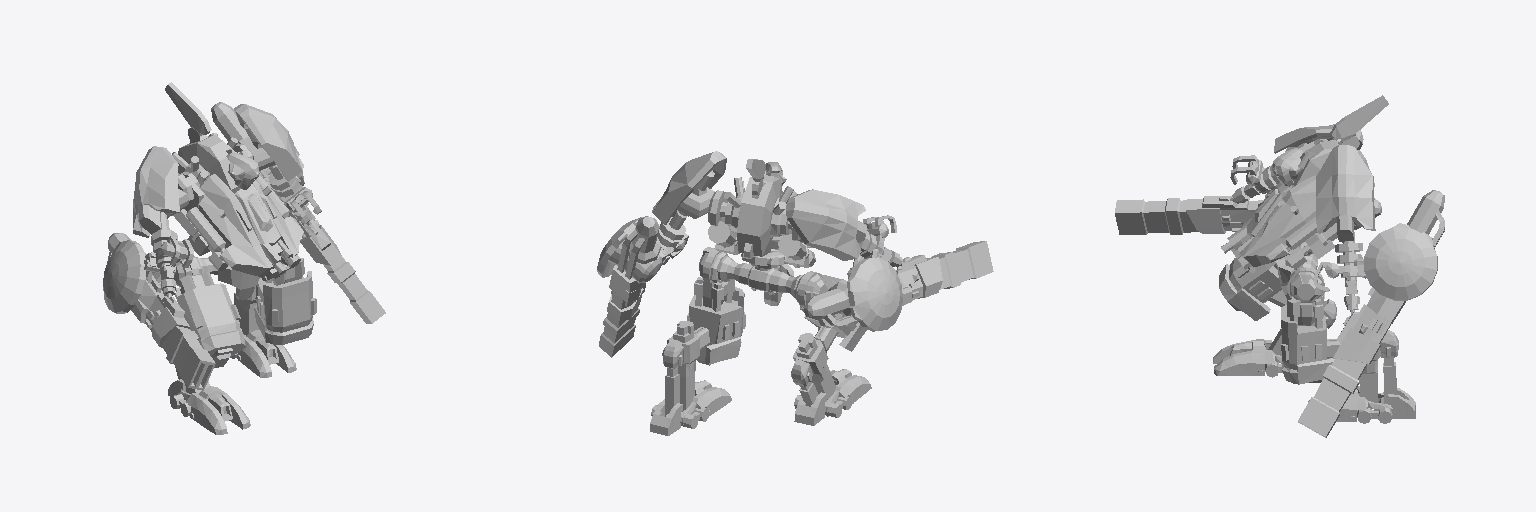
Rendered from robo.obj.
The picture shows the model from 3 angles: view 1: azimuth 30°, elevation 25°; view 2: azimuth 150°, elevation 25°; view 3: azimuth 270°, elevation 25°; orthographic projection.
Visible parts, largest first — view 1: d2f0cff60afc40f5afe79156ec7db657; view 2: d2f0cff60afc40f5afe79156ec7db657; view 3: d2f0cff60afc40f5afe79156ec7db657.
Part boxes in pixels (x1,y1,x2,y2): d2f0cff60afc40f5afe79156ec7db657: (103,82,385,434); d2f0cff60afc40f5afe79156ec7db657: (597,151,993,435); d2f0cff60afc40f5afe79156ec7db657: (1115,95,1444,437).
Size of the model in its own units: 17.38 by 16.22 by 16.96.